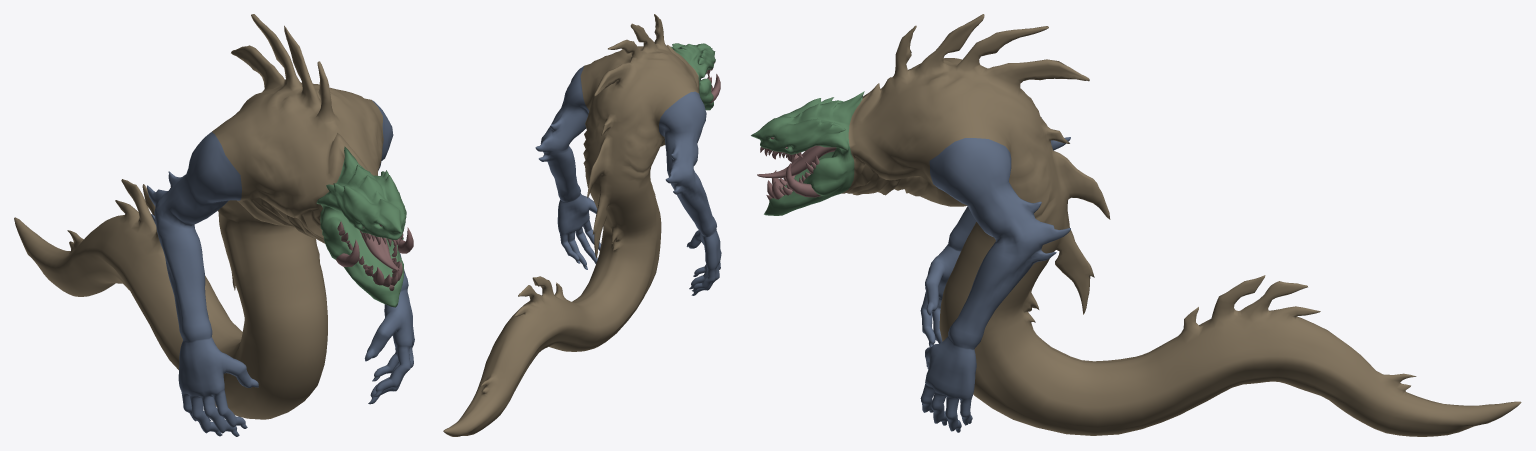
The model's file is Intermediate Monster Modeling Low 2.fbx.
3 renders of one model, left to right at view 1: azimuth 30°, elevation 25°; view 2: azimuth 150°, elevation 25°; view 3: azimuth 270°, elevation 25°, orthographic. The views are drawn at different scales.
Parts seen in each view (by area): view 1: Object001; view 2: Object001; view 3: Object001.
Part boxes in pixels (bbox=[...]): Object001: bbox=[14, 14, 414, 436]; Object001: bbox=[443, 14, 721, 436]; Object001: bbox=[751, 14, 1521, 436].
Size of the model in its own units: 134 by 236 by 392.
